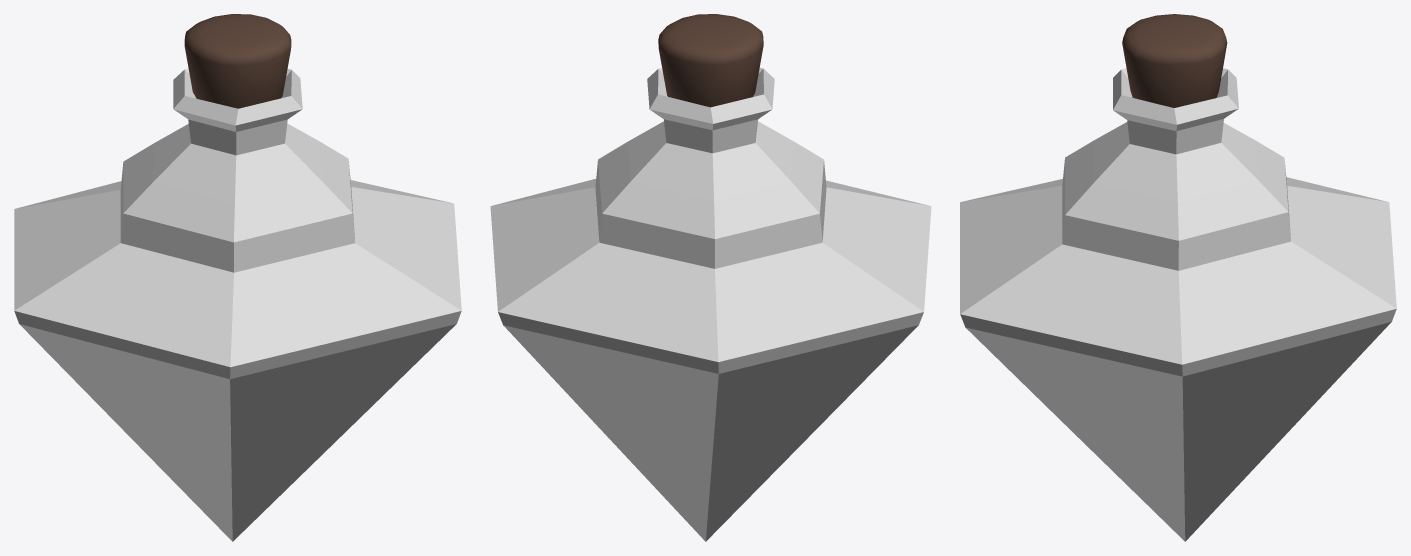
File: quaternius-rpg-items-pack-potion11-filled.glb
The picture shows the model from 3 angles, left to right: view 1: azimuth 30°, elevation 25°; view 2: azimuth 150°, elevation 25°; view 3: azimuth 270°, elevation 25°; orthographic projection.
Parts seen in each view (by area): view 1: Potion11_Filled; view 2: Potion11_Filled; view 3: Potion11_Filled.
Part boxes in pixels (<box>): Potion11_Filled: <box>14,14,461,541</box>; Potion11_Filled: <box>490,14,931,541</box>; Potion11_Filled: <box>960,14,1396,541</box>.
Size of the model in its own units: 0.8358 by 0.9373 by 0.7238.
